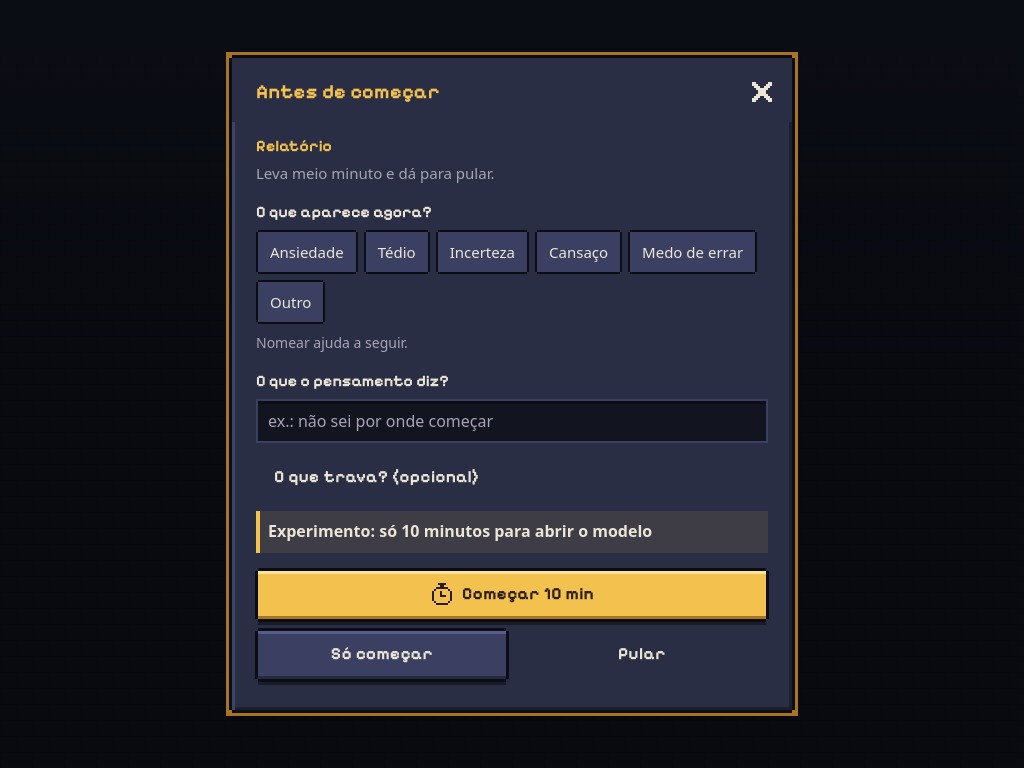
Test: start card copy › the willingness line names the feeling that was picked
This screenshot has width=1024, height=768.
Click the button "Medo de errar" at (693, 252), box [630,230,755,274]
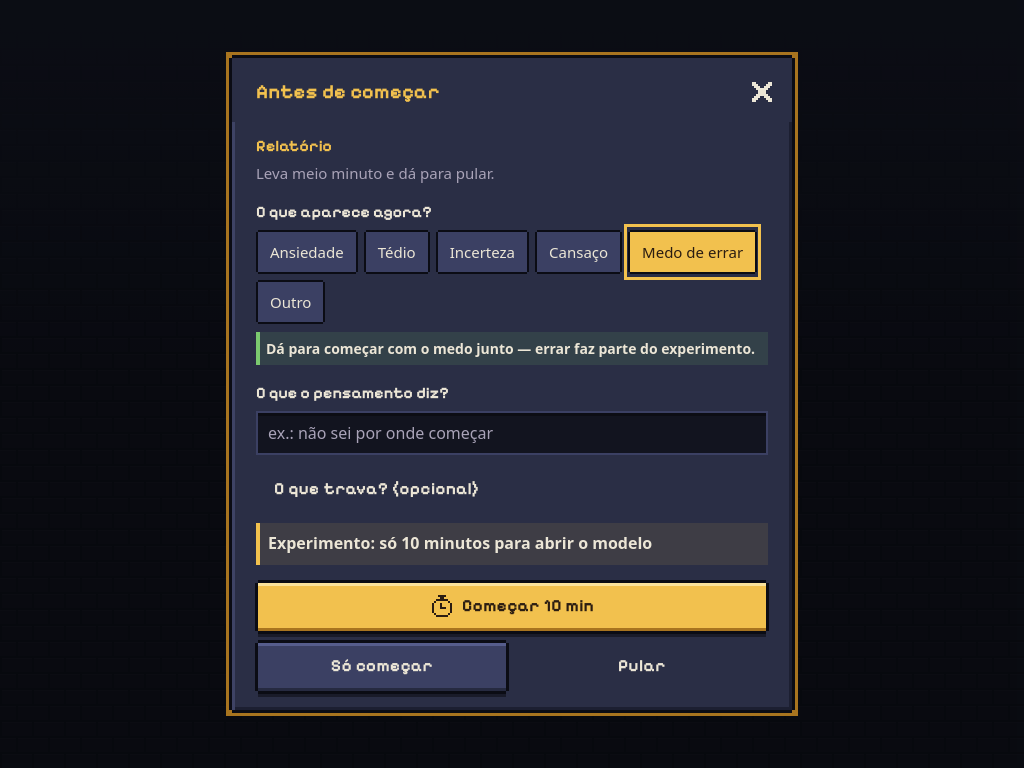
Check: the text "Dá para começar com o medo junto — errar faz parte do experimento." is shown, box [256,332,768,365]
Click the button "Ansiedade" at (307, 252), box [258,230,356,274]
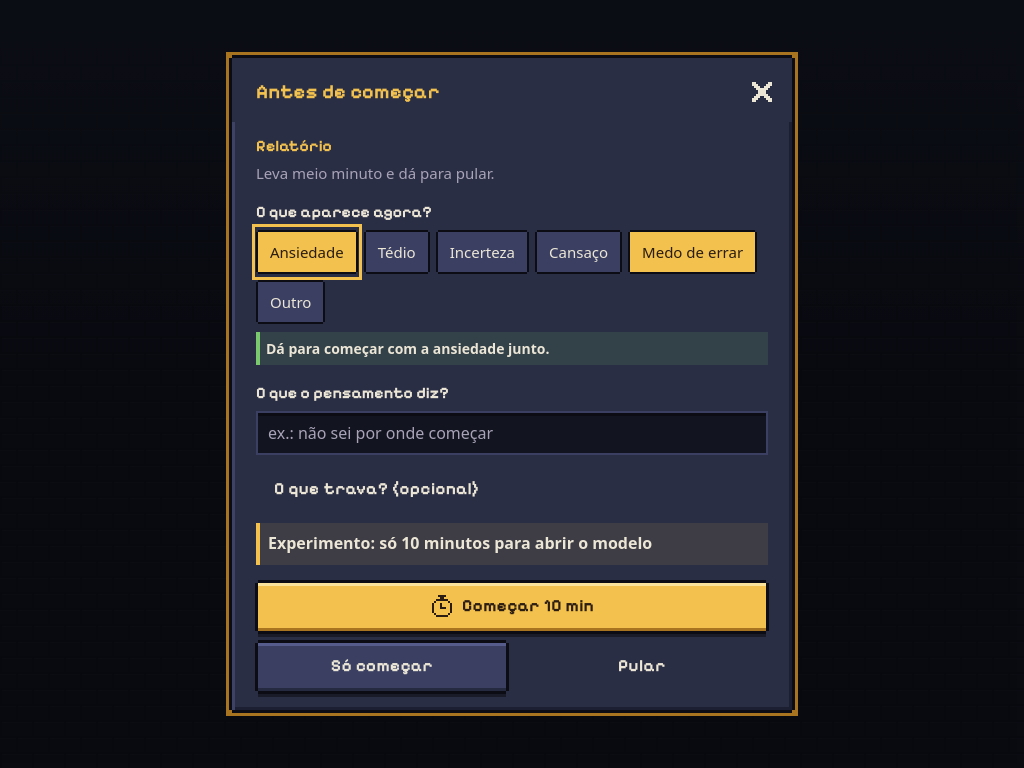
Check: the text "Dá para começar com a ansiedade junto." is shown, box [256,332,768,365]
Click the button "Ansiedade" at (307, 252), box [258,230,356,274]
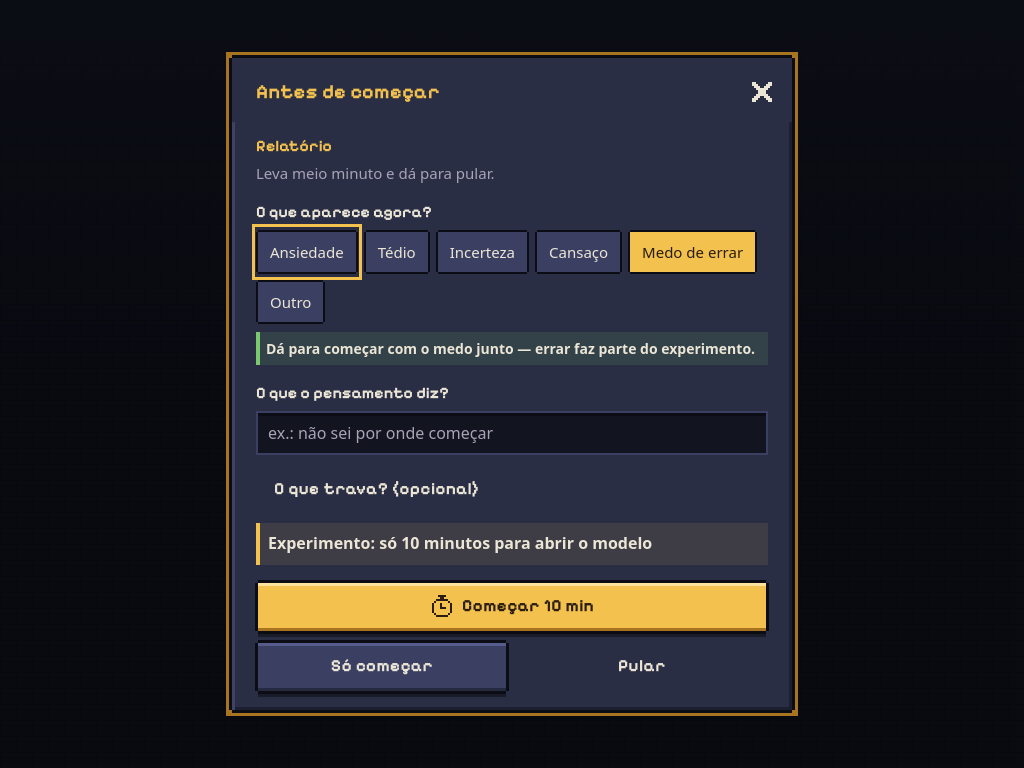
Click the button "Medo de errar" at (693, 252), box [630,230,755,274]
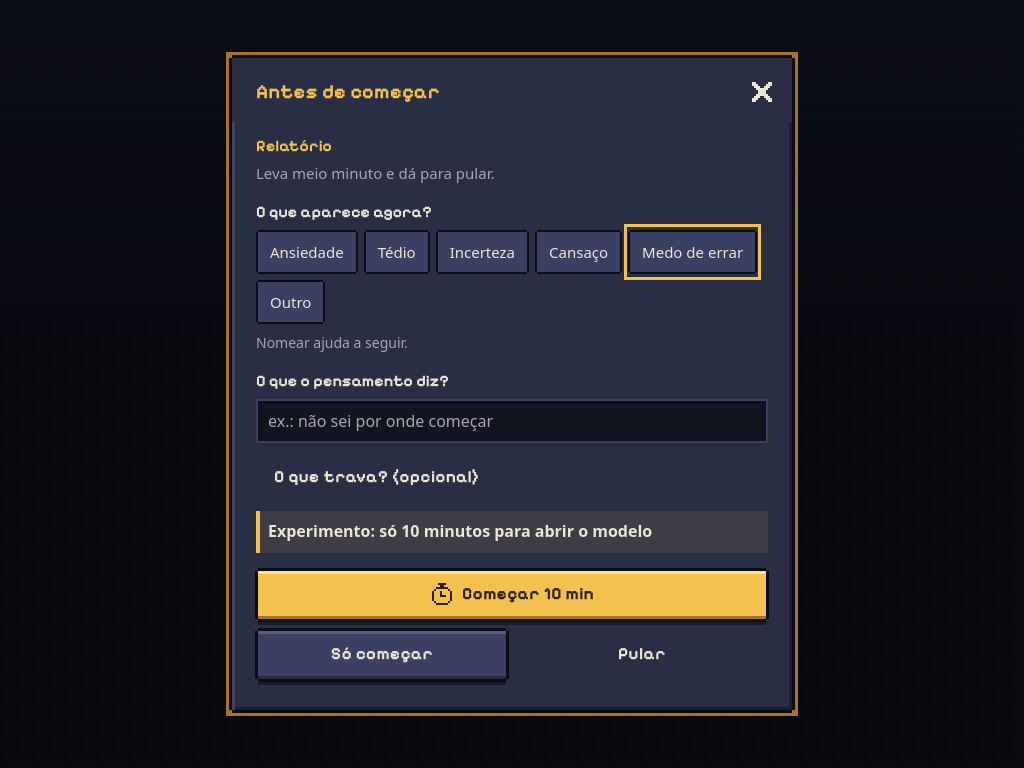
Check: the text "Nomear ajuda a seguir." is shown, box [256,333,408,352]
